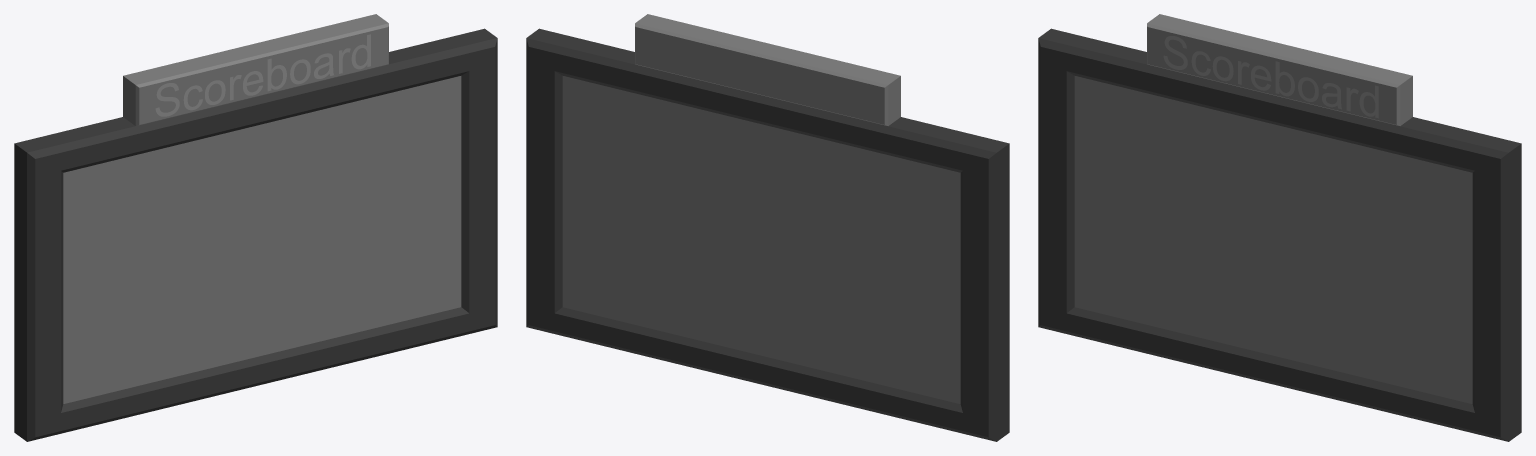
Rendered from ScoreBoard 1.FBX.
The picture shows the model from 3 angles, left to right: view 1: azimuth 30°, elevation 25°; view 2: azimuth 150°, elevation 25°; view 3: azimuth 330°, elevation 25°; orthographic projection.
Visible parts, largest first — view 1: Box001, Text001; view 2: Box001; view 3: Box001, Text001.
Boxes of the visible parts, <box> form: Box001: <box>14,14,497,441</box>; Text001: <box>155,34,370,116</box>; Box001: <box>526,14,1009,441</box>; Box001: <box>1038,14,1521,441</box>; Text001: <box>1163,36,1378,118</box>.
Size of the model in its own units: 23.95 by 16.07 by 1.63.
Materials: 3 (2 with a texture image).
